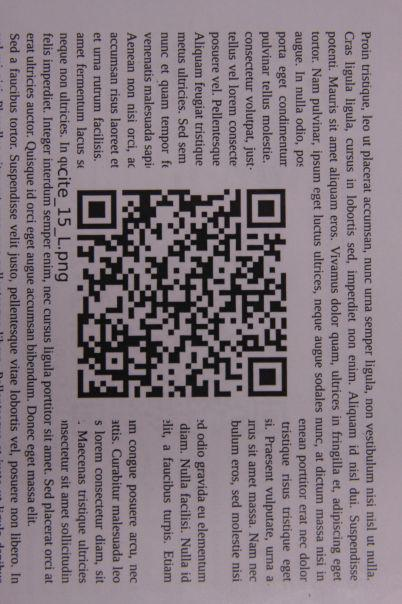Finder pattern: (242, 185, 293, 235), (73, 185, 124, 235), (243, 353, 292, 402)
